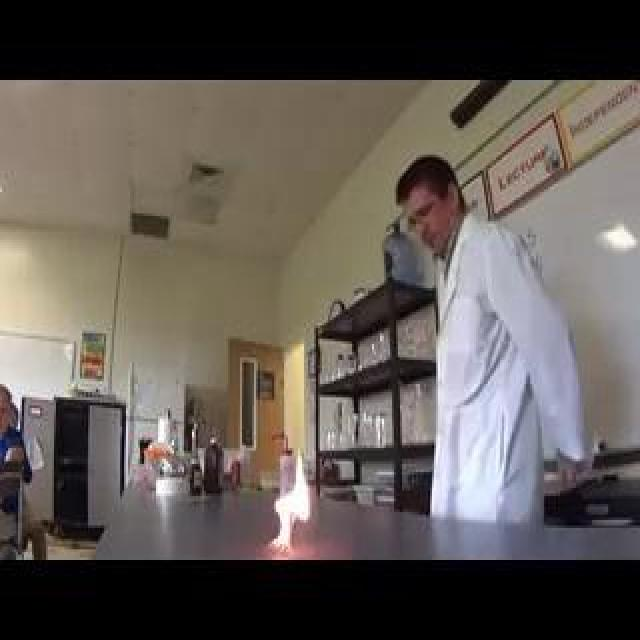Fire: (52, 134, 291, 486)
